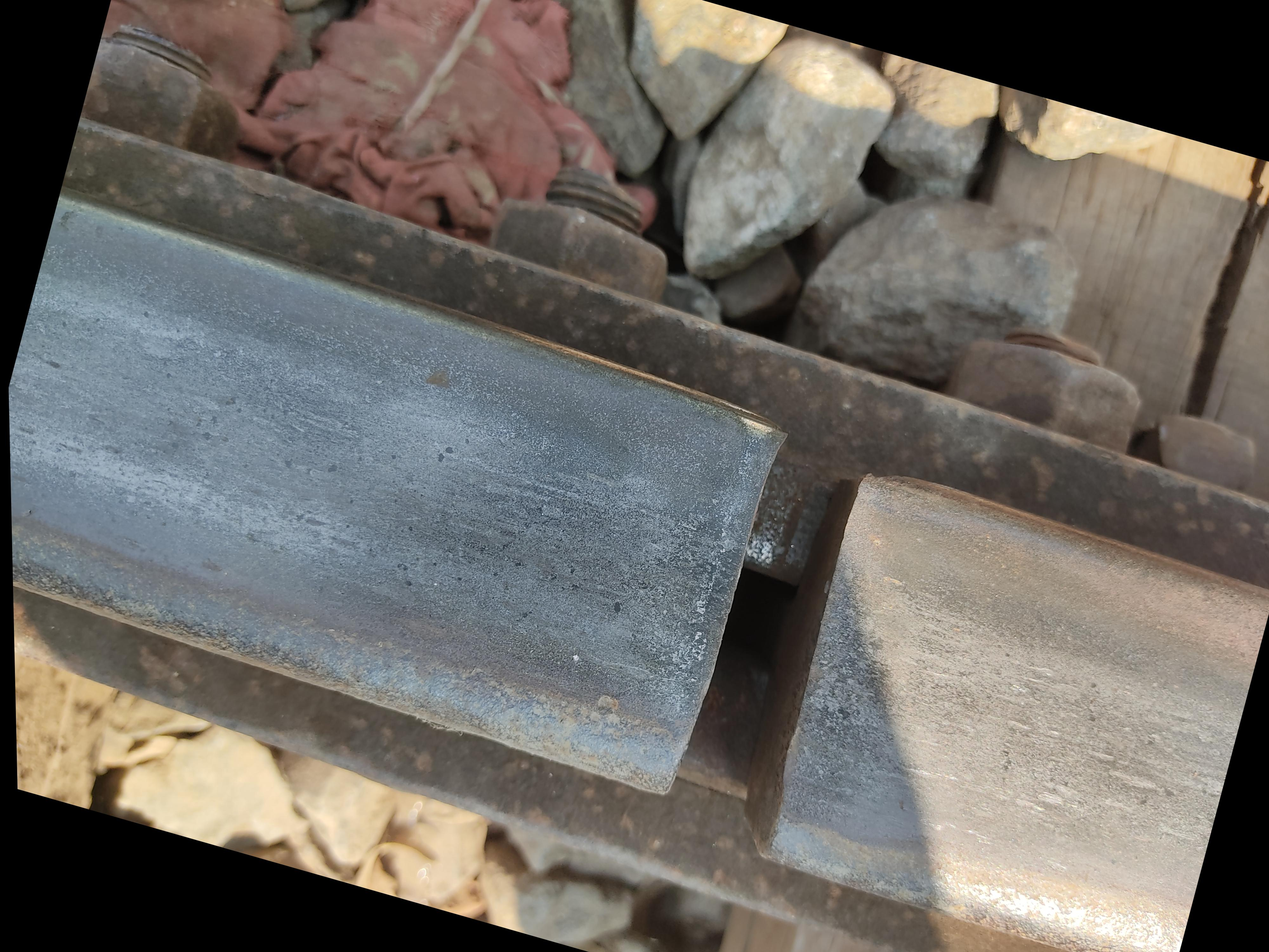person: (599, 159, 1209, 800)
